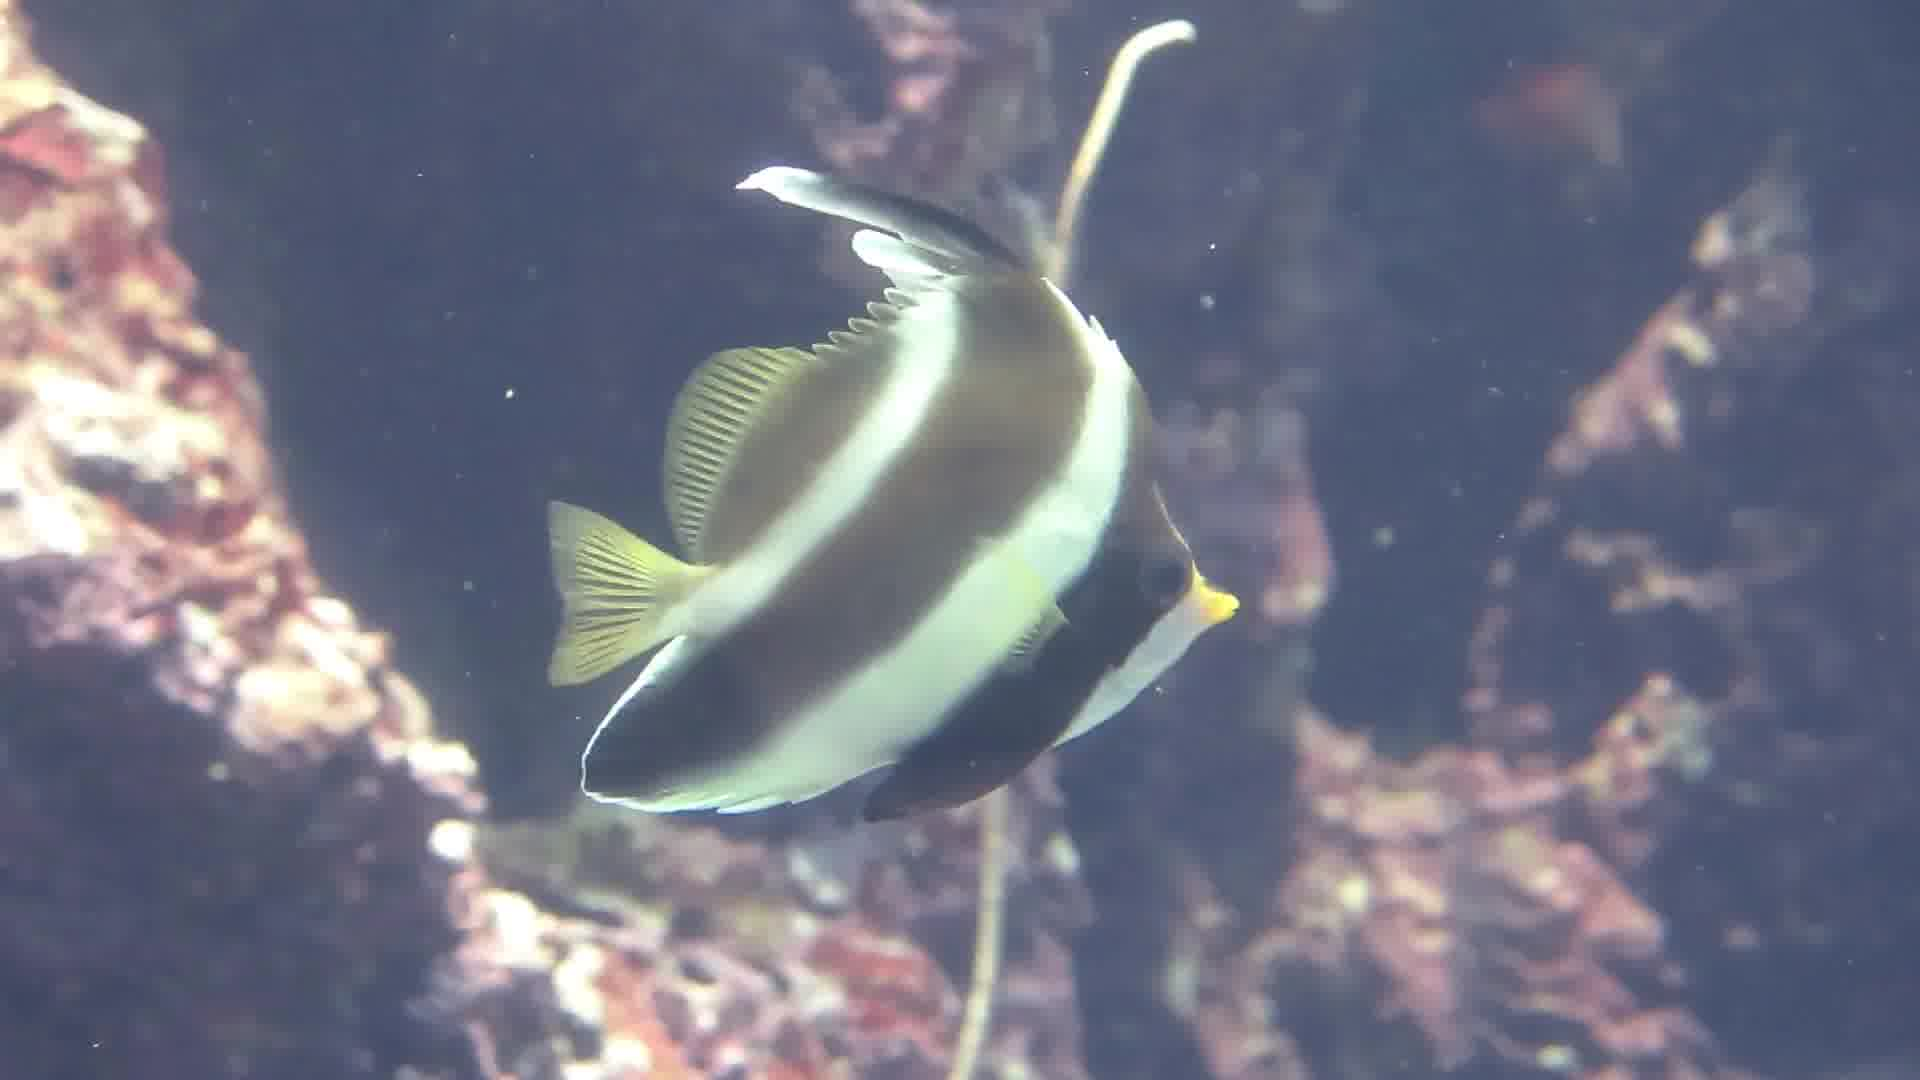Heniochus chrysostomus: (516, 113, 1270, 899)
